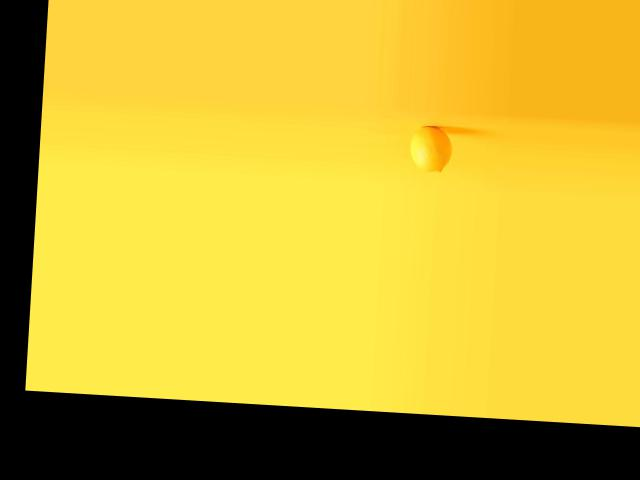lemon: (397, 123, 457, 178)
